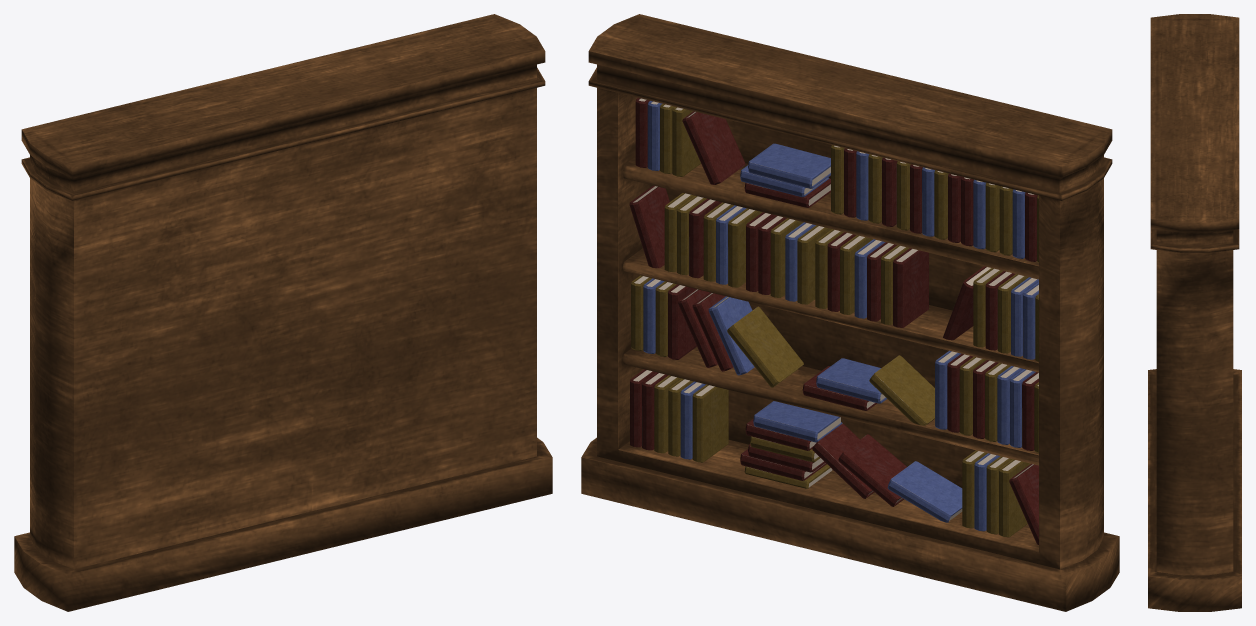
File: BookShelf.fbx
The picture shows the model from 3 angles, left to right: view 1: azimuth 30°, elevation 25°; view 2: azimuth 150°, elevation 25°; view 3: azimuth 270°, elevation 25°; orthographic projection. The views are drawn at different scales.
Parts seen in each view (by area): view 1: Book Shelf; view 2: Book Shelf, Book87, Book4, Book38, Book35, Book7, Book90, Book75, Book36, Book22, Book8, Book34 (+77 smaller); view 3: Book Shelf.
Part boxes in pixels (x1,y1,x2,y2): Book Shelf: (14,14,552,611); Book Shelf: (581,14,1119,611); Book87: (727,306,803,387); Book4: (682,111,745,184); Book38: (887,461,962,522); Book35: (869,355,934,425); Book7: (748,143,830,188); Book90: (692,384,728,462); Book75: (893,248,928,327); Book36: (838,434,906,506); Book22: (753,401,842,442); Book8: (629,185,669,268); Book34: (816,358,886,403); Book Shelf: (1148,14,1241,611).
Bounding box in the file's own units: 20.49 × 17.28 × 3.81.
Materials: 4 (4 with a texture image).
